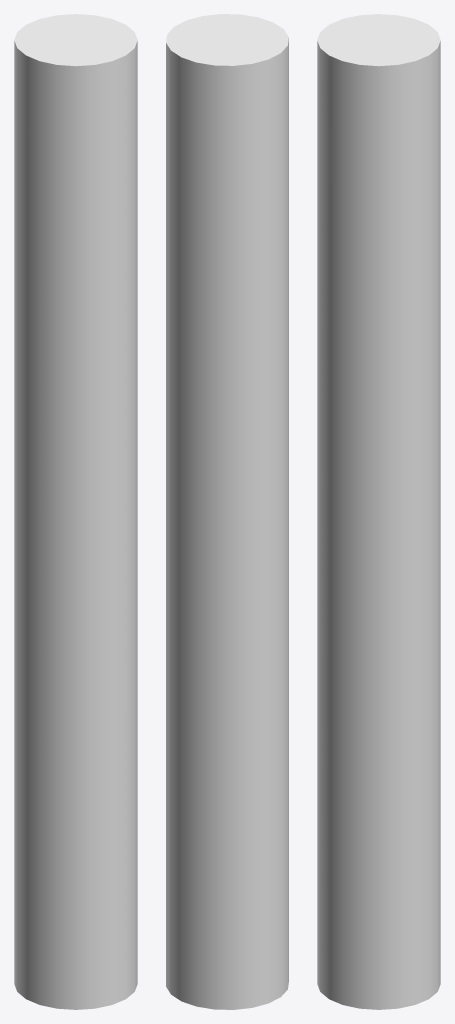
The model's file is gizmoScaleY.fbx.
The picture shows the model from 3 angles, left to right: view 1: azimuth 90°, elevation 25°; view 2: azimuth 150°, elevation 25°; view 3: azimuth 270°, elevation 25°; orthographic projection.
Visible parts, largest first — view 1: gizmoScaleY; view 2: gizmoScaleY; view 3: gizmoScaleY.
Part boxes in pixels (x1,y1,x2,y2): gizmoScaleY: (14,14,137,1009); gizmoScaleY: (166,14,288,1009); gizmoScaleY: (317,14,440,1009).
Size of the model in its own units: 3.6 by 30.35 by 3.6.
Materials: 1 (1 with a texture image).
